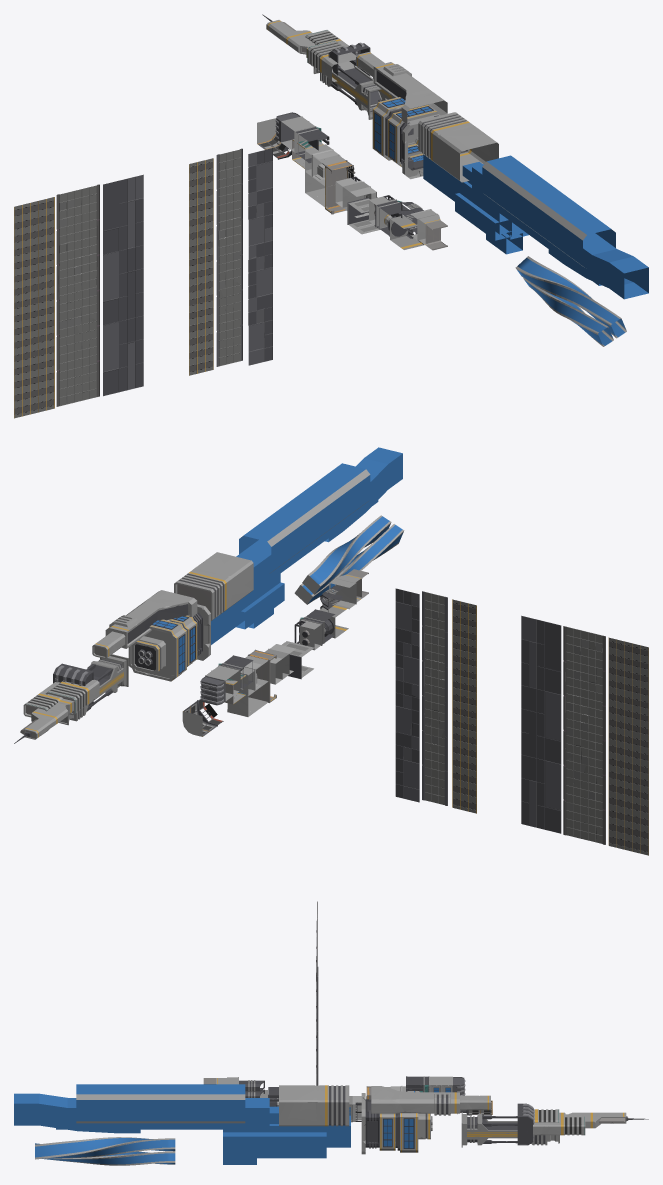
File: InfinityRunnerEnvironment.fbx
3 renders of one model, top to bottom at view 1: azimuth 30°, elevation 25°; view 2: azimuth 150°, elevation 25°; view 3: azimuth 270°, elevation 25°, orthographic. The views are drawn at different scales.
Parts seen in each view (by area): view 1: Block_5_Lane_1, Block_5_Lane_03, Block_5_Lane_2, Distant_03, Block_3_Lane_2, Block_3_Lane_3, Block_3_Lane_1, Building_11, Skyscraper_05, Distant_01, Skyscraper_04, Skyscraper_01 (+14 smaller); view 2: Block_5_Lane_1, Block_5_Lane_2, Block_5_Lane_03, Distant_03, Block_3_Lane_2, Block_3_Lane_1, Block_3_Lane_3, Skyscraper_04, Building_11, Skyscraper_05, Skyscraper_01, Skyscraper_03 (+12 smaller); view 3: Distant_03, Distant_01, Building_11, Skyscraper_05, Skyscraper_04, Skyscraper_01, Skyscraper_03, Distant_05, Skyscraper_02, Distant_02, Distant_04, Building_02 (+1 smaller).
Part boxes in pixels (x1,y1,x2,y2): Block_5_Lane_1: [56, 184, 99, 406]; Block_5_Lane_03: [103, 174, 143, 396]; Block_5_Lane_2: [14, 197, 54, 418]; Distant_03: [482, 155, 615, 267]; Block_3_Lane_2: [216, 148, 242, 366]; Block_3_Lane_3: [189, 158, 213, 375]; Block_3_Lane_1: [248, 148, 272, 365]; Building_11: [515, 256, 626, 346]; Skyscraper_05: [418, 112, 498, 182]; Distant_01: [423, 154, 528, 254]; Skyscraper_04: [372, 97, 438, 179]; Skyscraper_01: [262, 14, 370, 89]; Block_5_Lane_1: [563, 626, 605, 844]; Block_5_Lane_2: [608, 637, 648, 855]; Block_5_Lane_03: [521, 615, 561, 833]; Distant_03: [239, 463, 370, 572]; Block_3_Lane_2: [422, 591, 447, 805]; Block_3_Lane_1: [395, 588, 419, 802]; Block_3_Lane_3: [452, 599, 476, 813]; Skyscraper_04: [128, 604, 210, 681]; Building_11: [294, 515, 404, 604]; Skyscraper_05: [174, 552, 253, 620]; Skyscraper_01: [14, 663, 99, 743]; Skyscraper_03: [92, 590, 197, 658]; Distant_03: [76, 1084, 245, 1123]; Distant_01: [223, 1106, 350, 1164]; Building_11: [35, 1137, 175, 1165]; Skyscraper_05: [279, 1085, 349, 1126]; Skyscraper_04: [361, 1093, 432, 1154]; Skyscraper_01: [517, 1103, 648, 1145]; Skyscraper_03: [371, 1086, 490, 1115]; Distant_05: [14, 1093, 140, 1133]; Skyscraper_02: [461, 1112, 559, 1147]; Distant_02: [143, 1098, 269, 1129]; Distant_04: [56, 1098, 181, 1129]; Building_02: [406, 1076, 465, 1095].
Bounding box in the file's own units: 11765 × 5120 × 16191.
